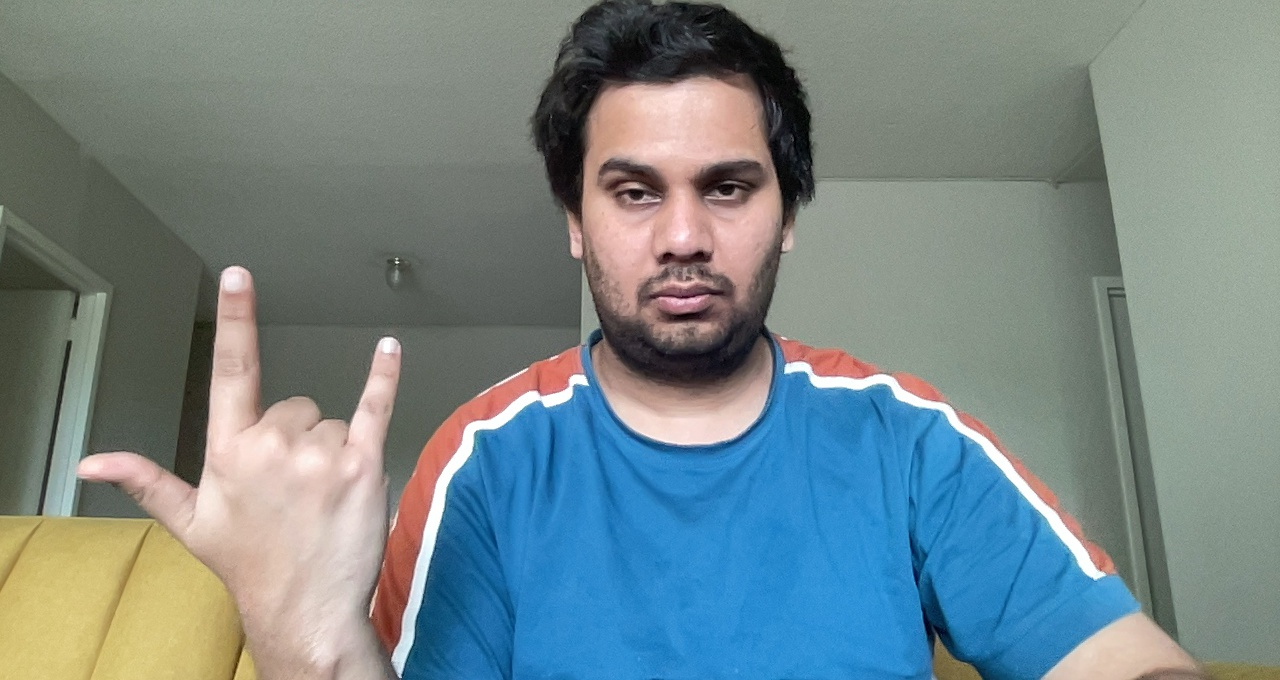rockon sign: (82, 257, 410, 624)
